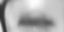RightEyeFatigue: (13, 8, 57, 32)
